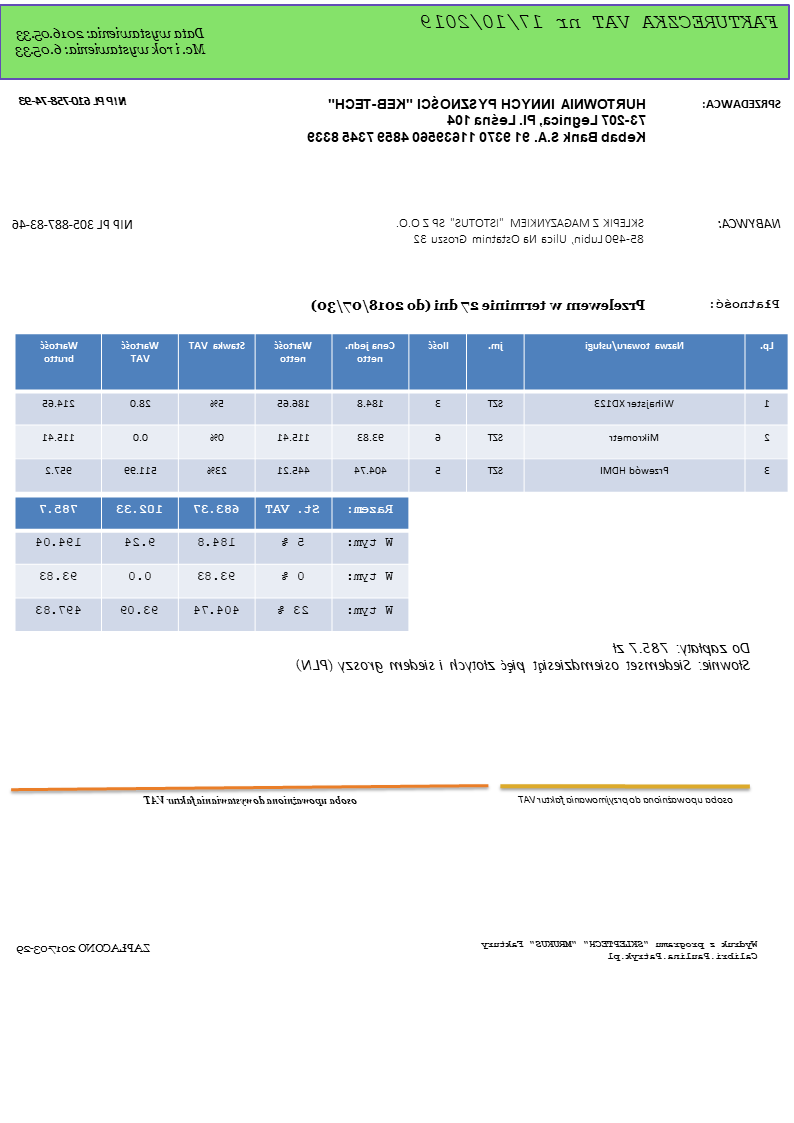Table: (14, 331, 790, 494), (13, 496, 411, 633)
TextBox: (304, 93, 649, 147), (294, 637, 754, 674), (394, 214, 647, 248), (419, 11, 781, 34), (478, 937, 760, 963), (13, 24, 209, 61), (311, 295, 648, 314), (515, 792, 735, 809), (142, 792, 360, 808), (16, 940, 154, 957), (10, 215, 137, 233), (16, 92, 129, 109), (700, 95, 784, 111), (708, 295, 783, 311), (717, 214, 783, 230)
